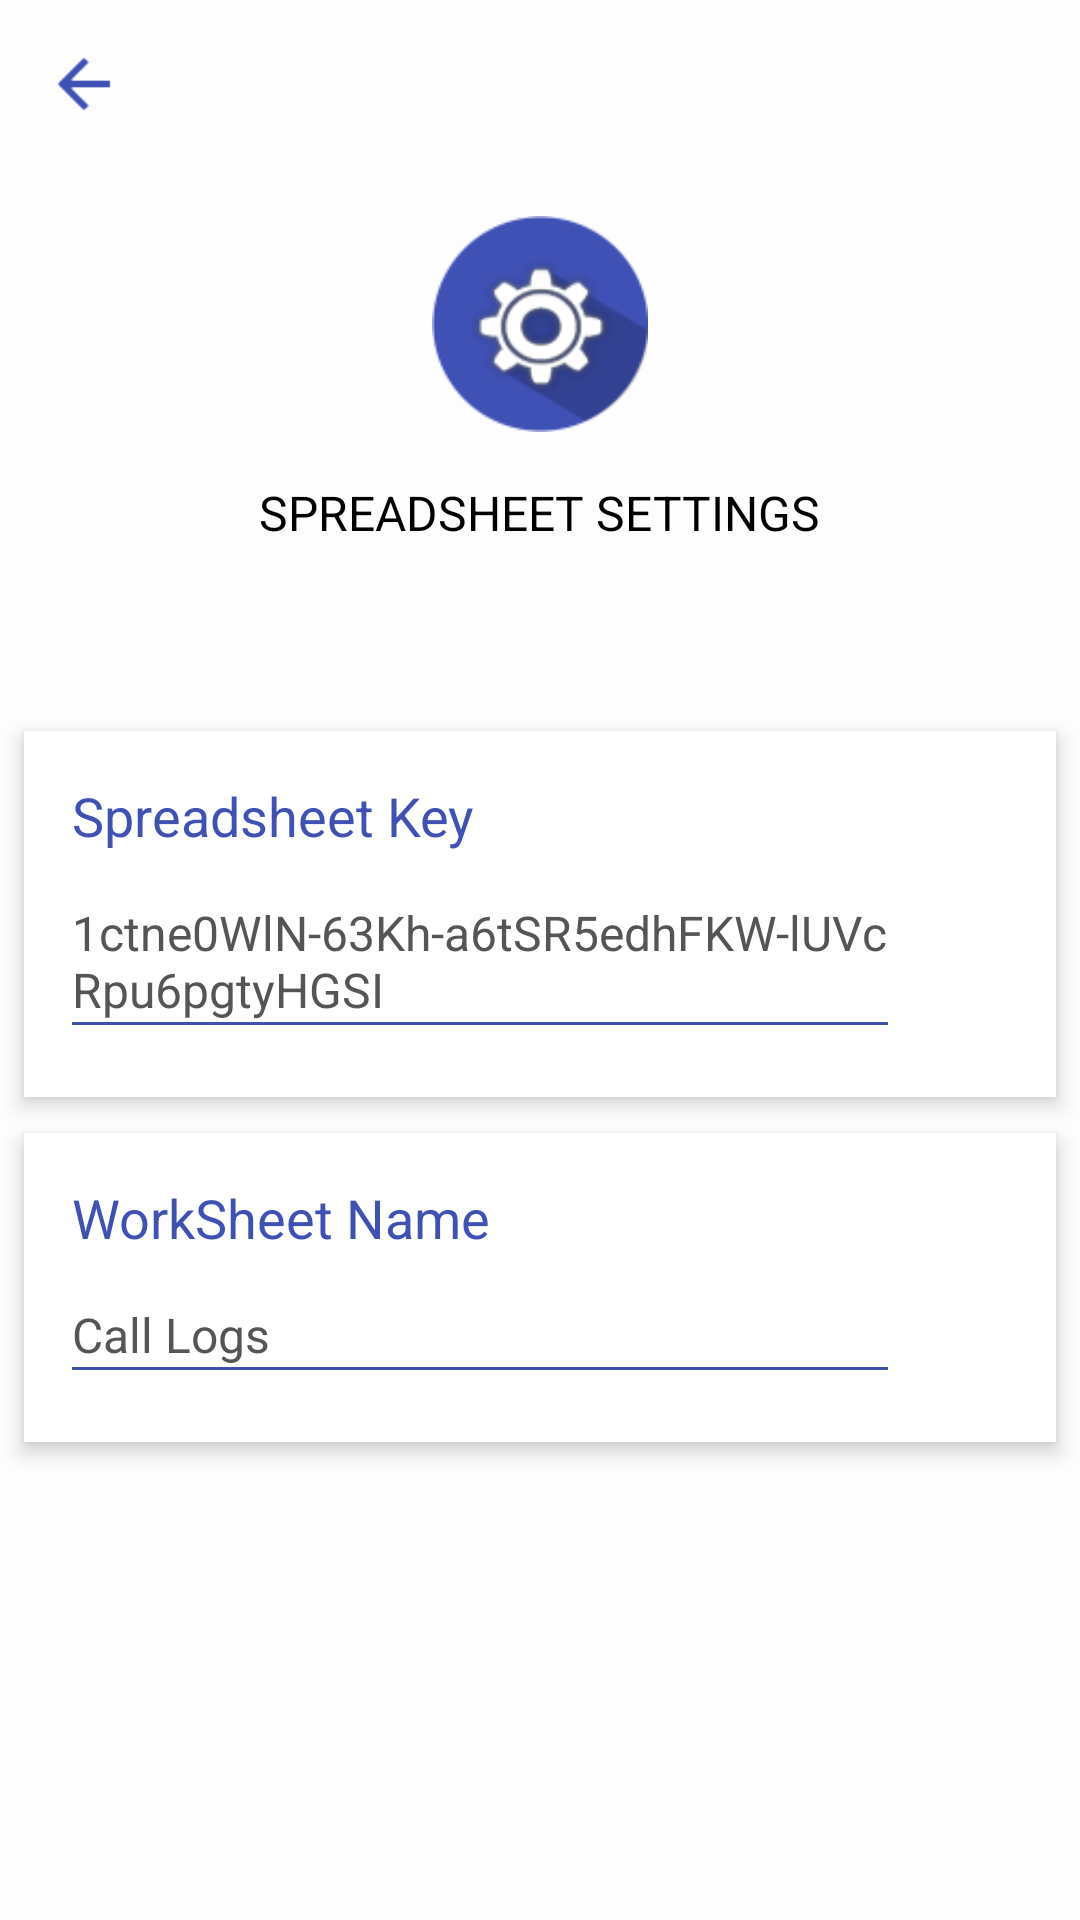

Where icons sit on this 1080w x 1920h app screen, as (x1, y1, x2, y2):
arrow back: (58, 58, 111, 110)
